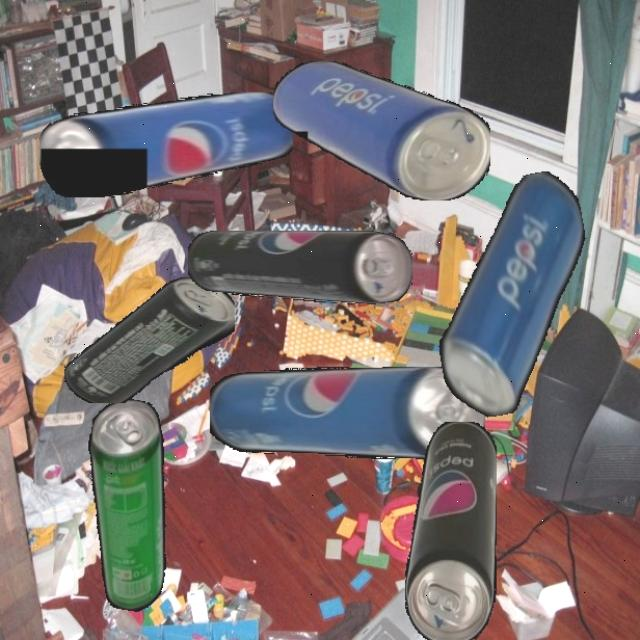debris: (412, 167, 613, 423), (272, 61, 490, 200), (62, 394, 194, 615), (39, 91, 293, 198), (209, 367, 485, 459), (64, 276, 235, 403), (404, 421, 497, 640), (187, 230, 412, 304)
